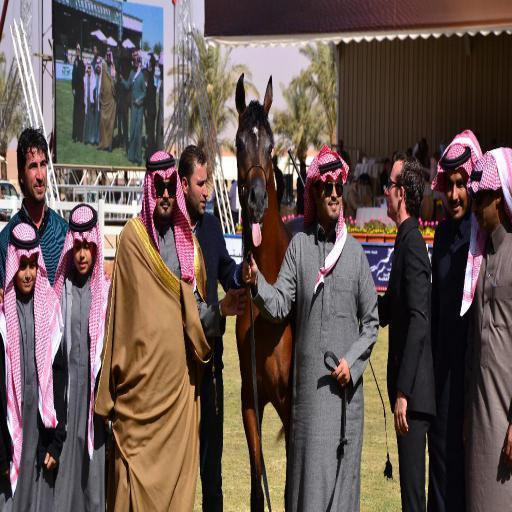horse: (234, 70, 298, 512)
